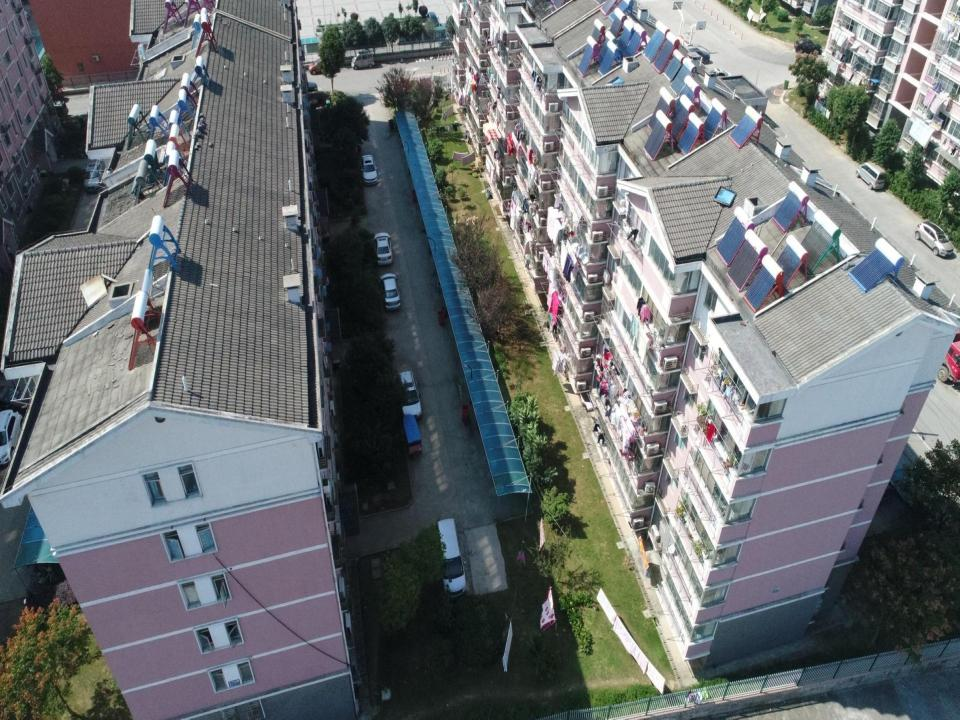car: (914, 219, 954, 258), (0, 407, 25, 469), (396, 369, 423, 418), (379, 271, 402, 311), (83, 157, 106, 190), (374, 230, 394, 266), (360, 152, 378, 185), (308, 57, 338, 75), (39, 81, 64, 102), (794, 37, 823, 55), (0, 384, 20, 410), (425, 11, 439, 29), (308, 81, 317, 93)
truck: (867, 273, 960, 385)
van: (435, 514, 468, 601), (855, 158, 888, 192), (351, 51, 375, 70)
